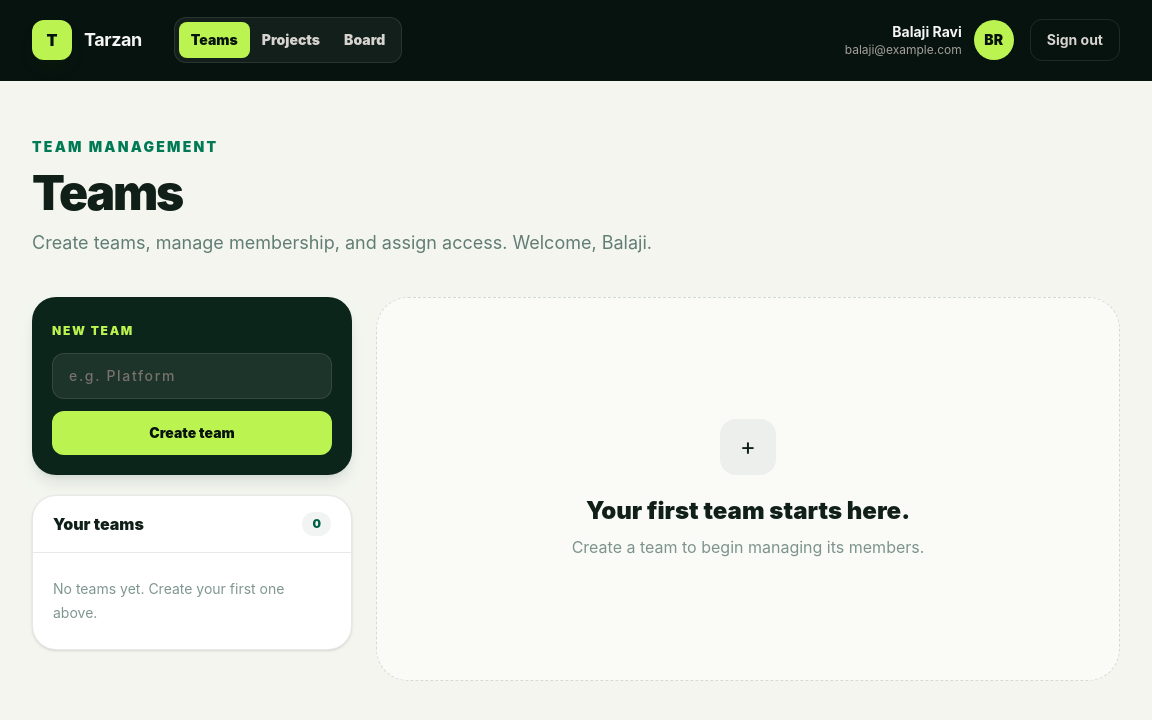
authentication flow › creates the first team for an authenticated user
The width and height of the screenshot is (1152, 720).
Type "Platform" into the field labelled "New team" at (192, 376), box [52, 353, 332, 399]
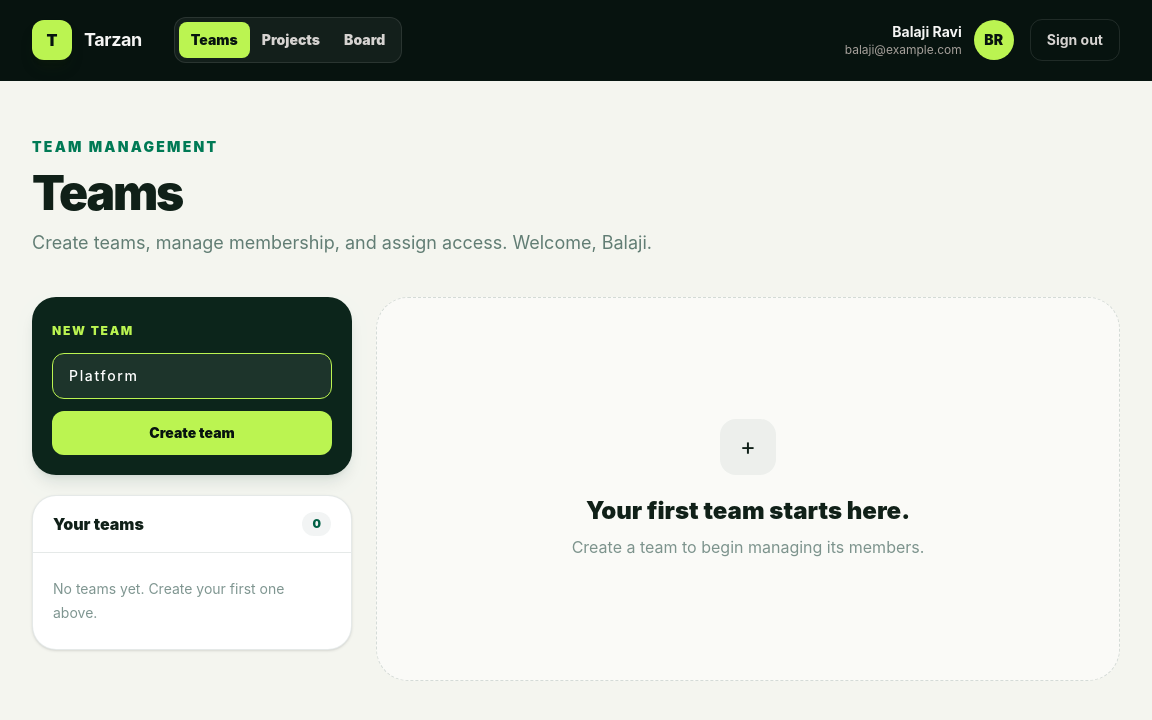
Click the button "Create team" at (192, 433), box [52, 411, 332, 455]
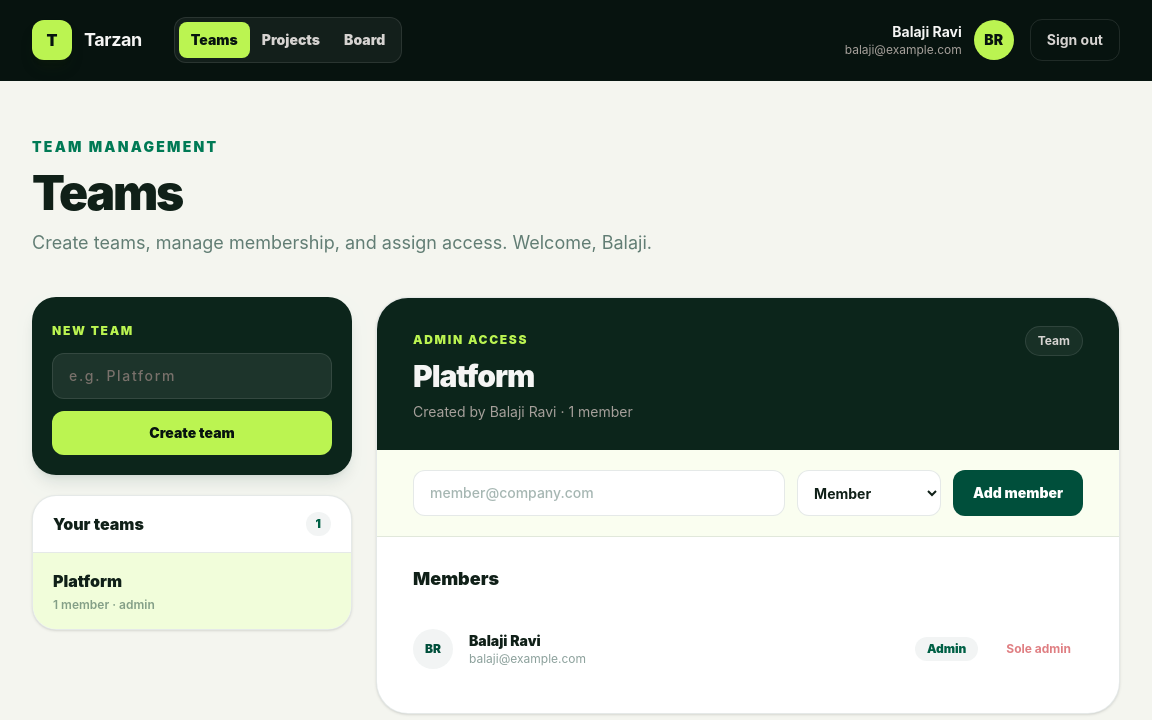
Result: the heading "Platform" is shown at [413, 358, 534, 394]
Result: the text "1 member · admin" is shown at [53, 597, 155, 612]
